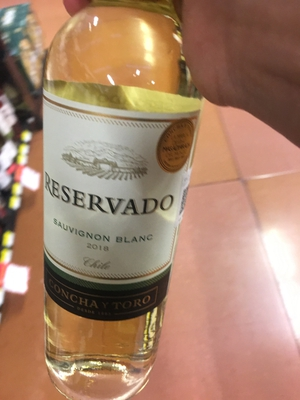reservado sauvignon blanc: (33, 16, 201, 395)
